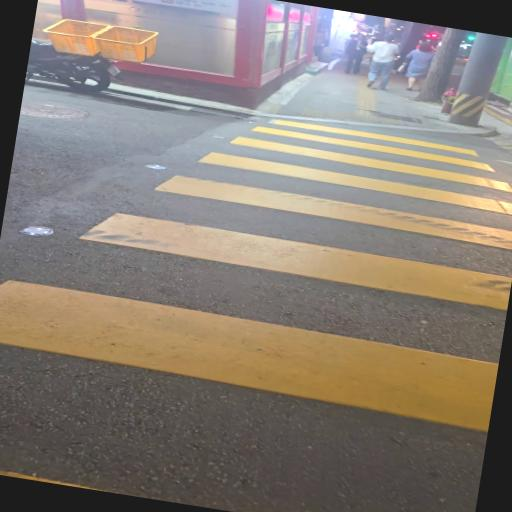yellow-crosswalk: (0, 70, 512, 449)
